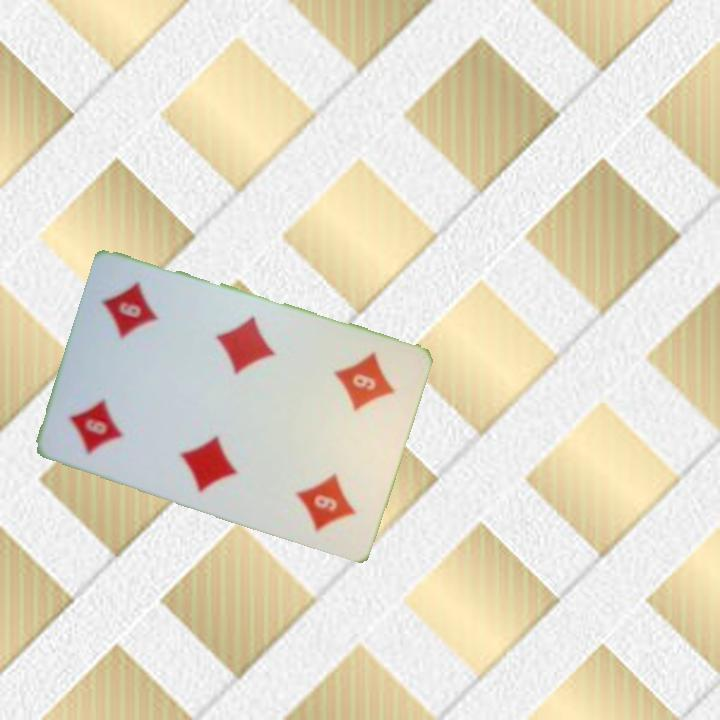d_6.png: (51, 353, 162, 473), (304, 335, 415, 455)
